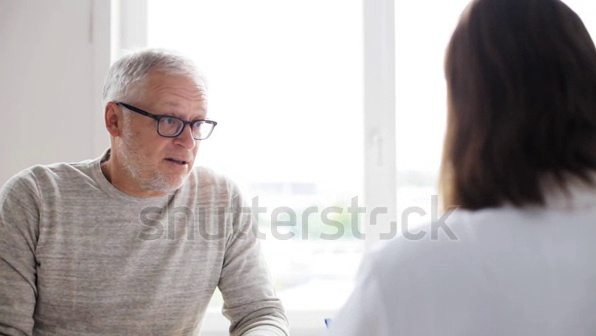No Mask: (104, 52, 213, 196)
